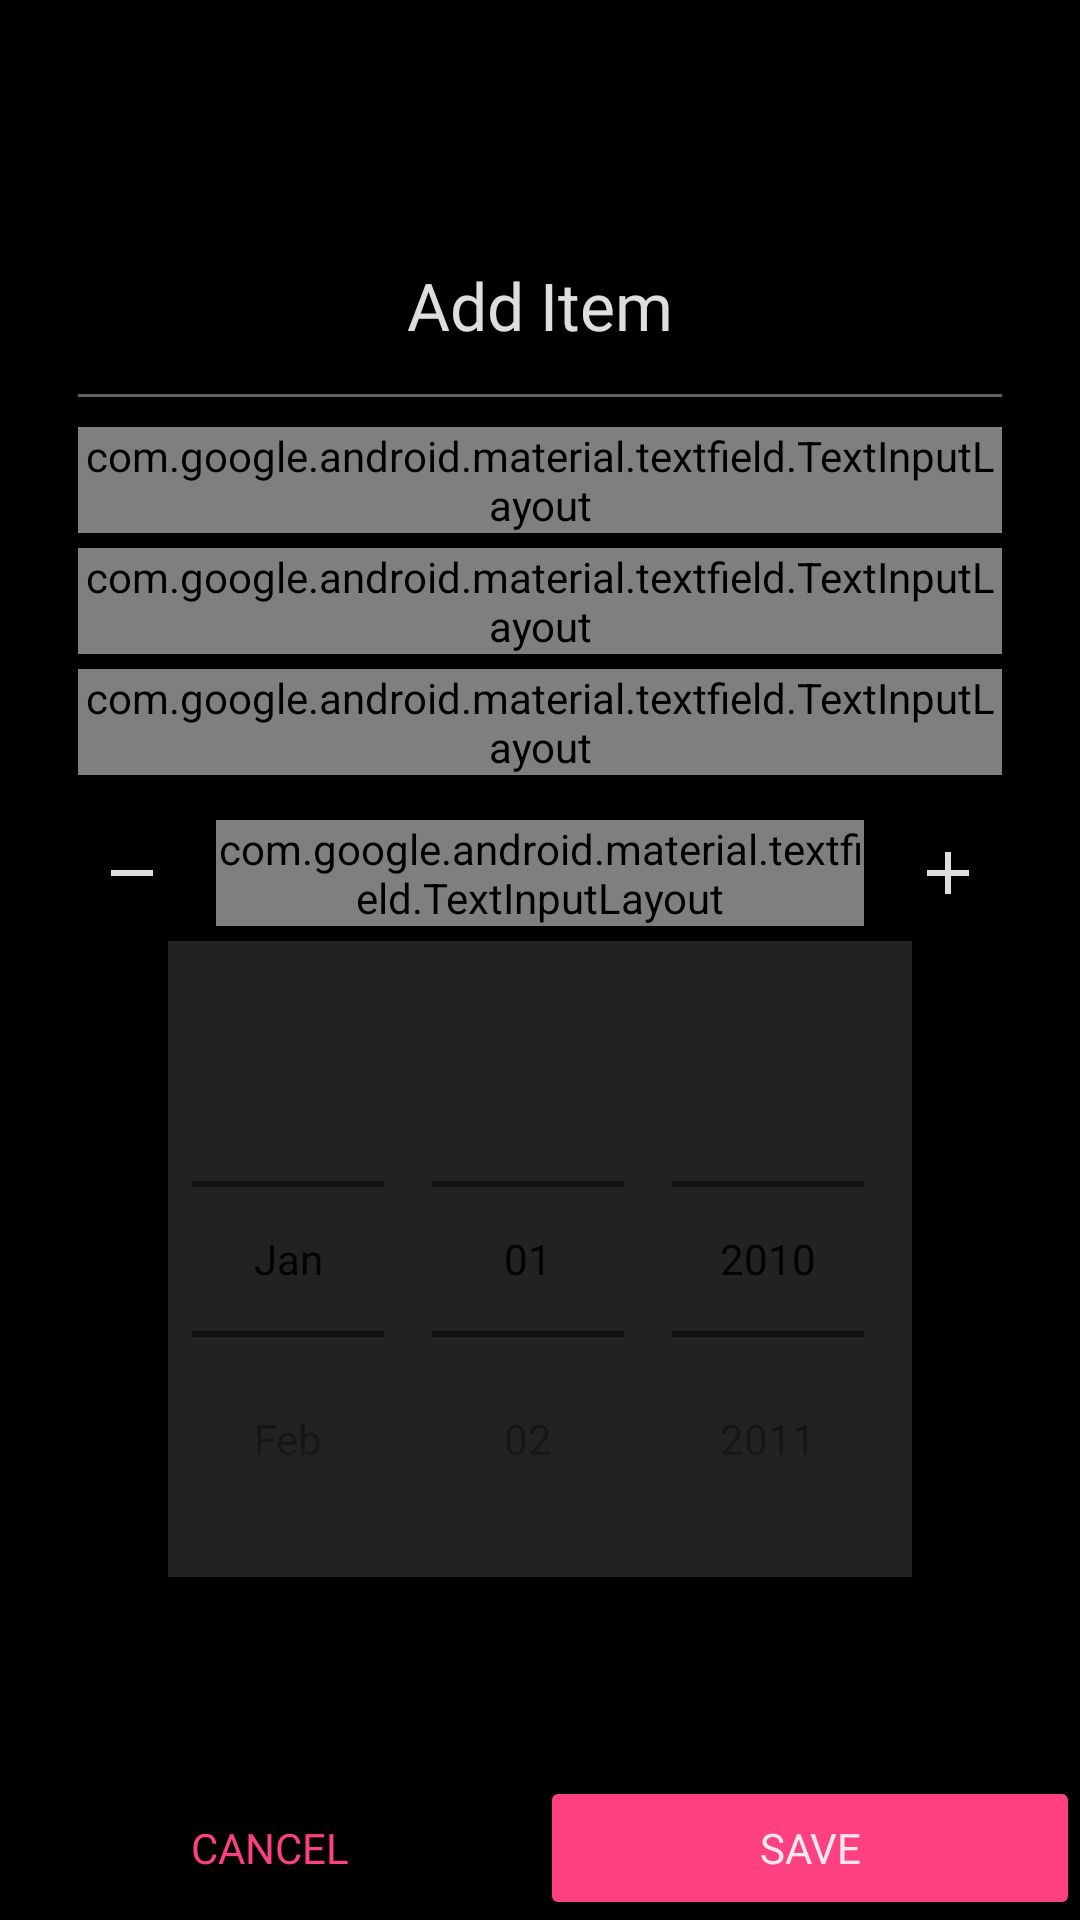

Point at icon controls on the screen. Image size 1080×1920, points as (x=x, y=y).
add: (x=948, y=873)
